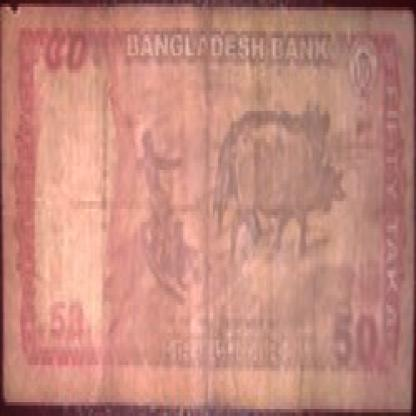Fifty taka: (320, 291, 391, 378), (45, 17, 86, 87)
